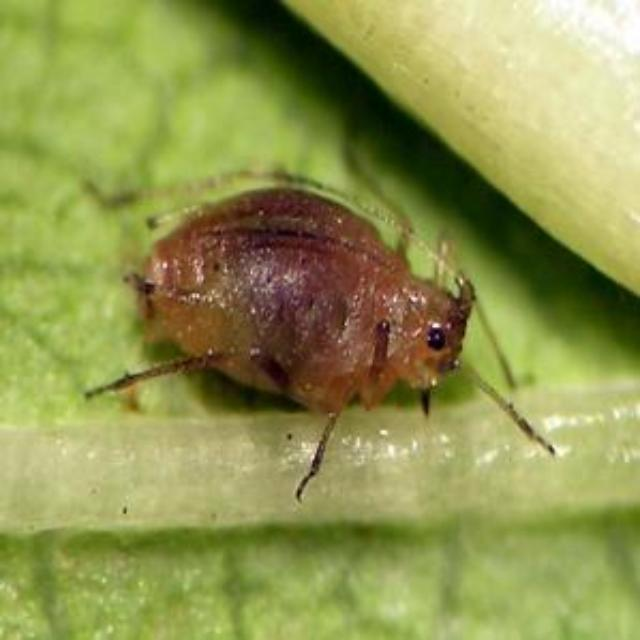Green peach aphid: (62, 86, 578, 536)
